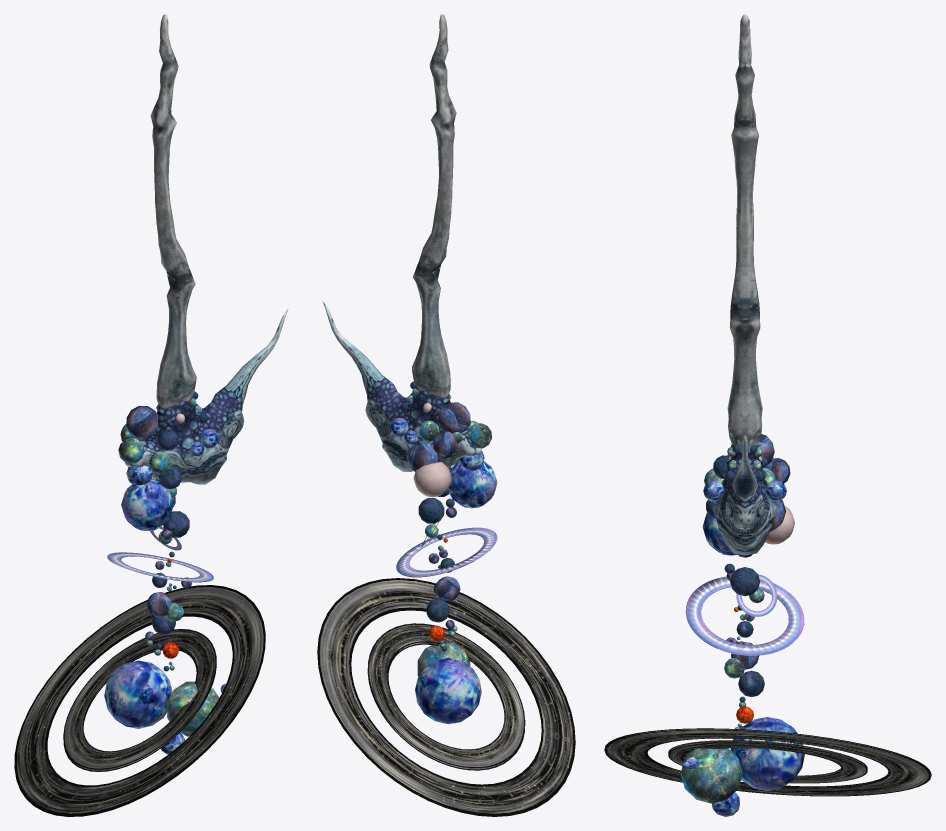
The model's file is as_bastardstars.glb.
3 views of the same model, side by side, from view 1: azimuth 30°, elevation 25°; view 2: azimuth 150°, elevation 25°; view 3: azimuth 270°, elevation 25° (orthographic). The views are drawn at different scales.
Visible parts, largest first — view 1: WP_A_1253.003; view 2: WP_A_1253.003; view 3: WP_A_1253.003.
Boxes of the visible parts, bbox=[...] form: WP_A_1253.003: bbox=[14, 14, 288, 816]; WP_A_1253.003: bbox=[317, 14, 575, 816]; WP_A_1253.003: bbox=[604, 14, 931, 816].
Size of the model in its own units: 19.8 by 60.03 by 21.08.
1 material, 1 textured.
